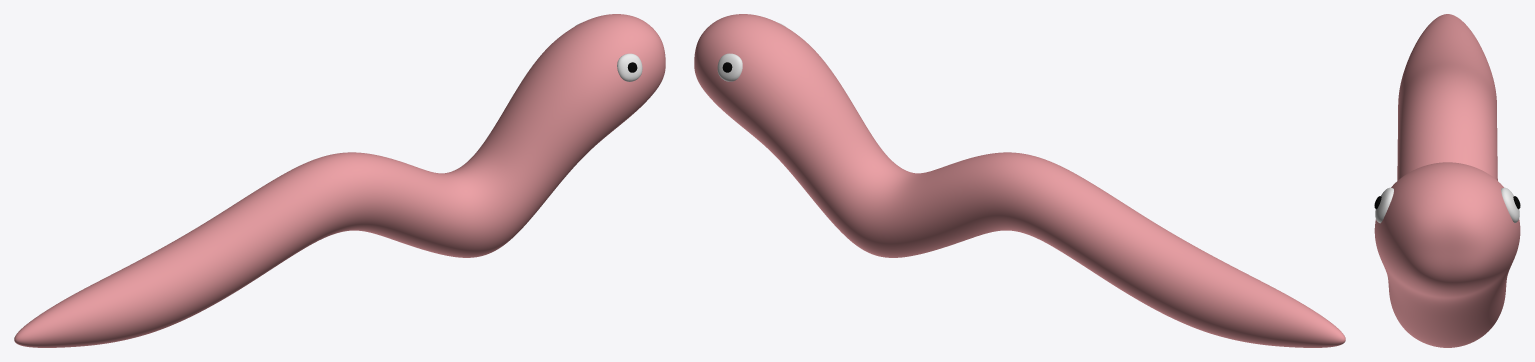
The model's file is PdV_Model_Worm.glb.
3 renders of one model, left to right at view 1: azimuth 30°, elevation 25°; view 2: azimuth 150°, elevation 25°; view 3: azimuth 270°, elevation 25°, orthographic. The views are drawn at different scales.
Parts seen in each view (by area): view 1: wormm; view 2: wormm; view 3: wormm.
Part boxes in pixels (x1,y1,x2,y2): wormm: (14, 14, 665, 347); wormm: (694, 14, 1345, 347); wormm: (1374, 14, 1520, 347).
Size of the model in its own units: 2.25 by 0.6688 by 0.3405.
